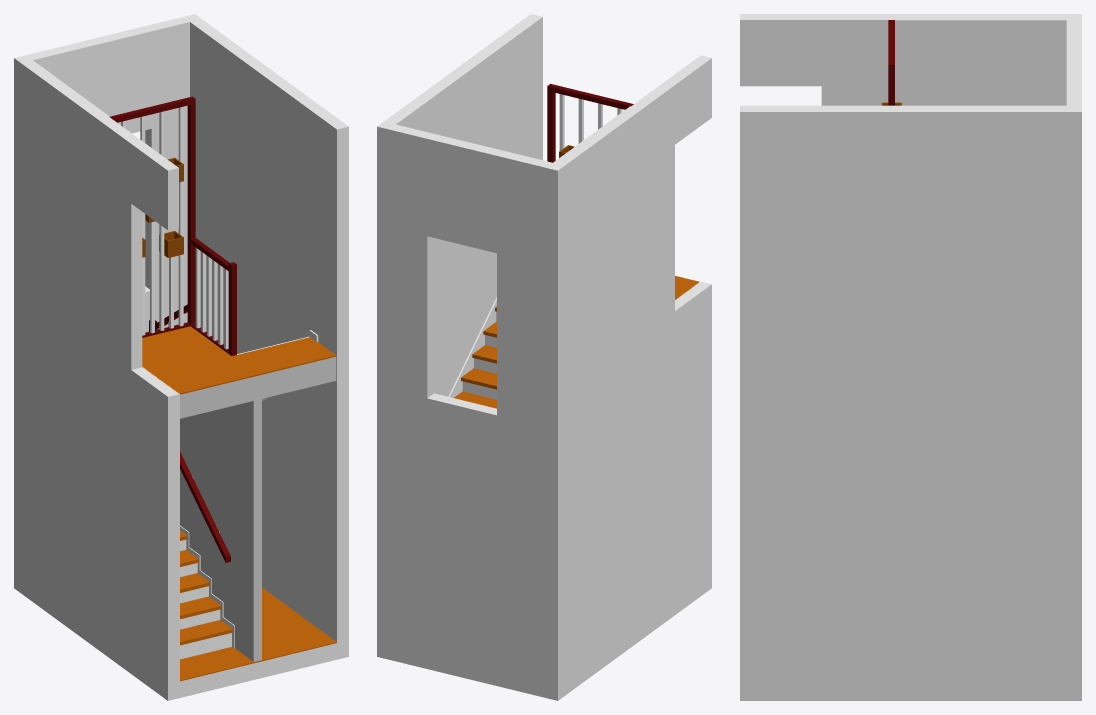
File: устрйство лестницы на бетонном основании.obj
The picture shows the model from 3 angles, left to right: view 1: azimuth 30°, elevation 25°; view 2: azimuth 150°, elevation 25°; view 3: azimuth 270°, elevation 25°; orthographic projection. The views are drawn at different scales.
Size of the model in its own units: 2.28 by 6.38 by 3.35.
